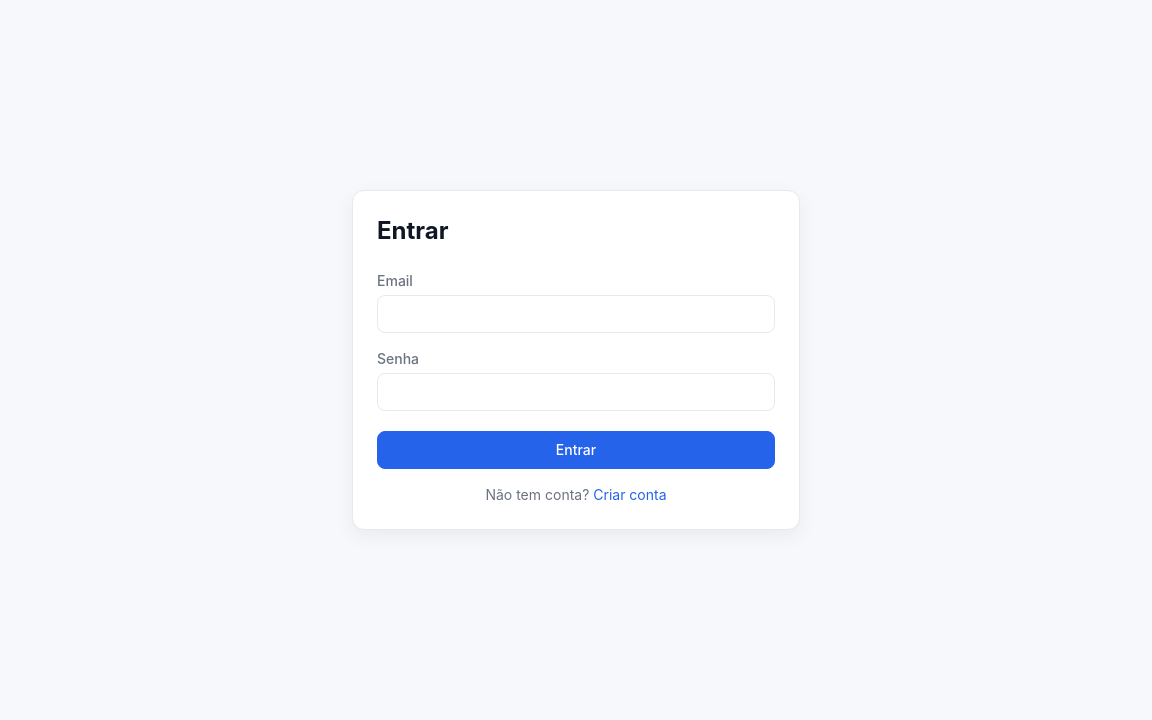
Auth Flow › navigates to dashboard on successful login
Type "test@example.com" into the field labelled "Email" at (576, 314), box [377,295,775,333]
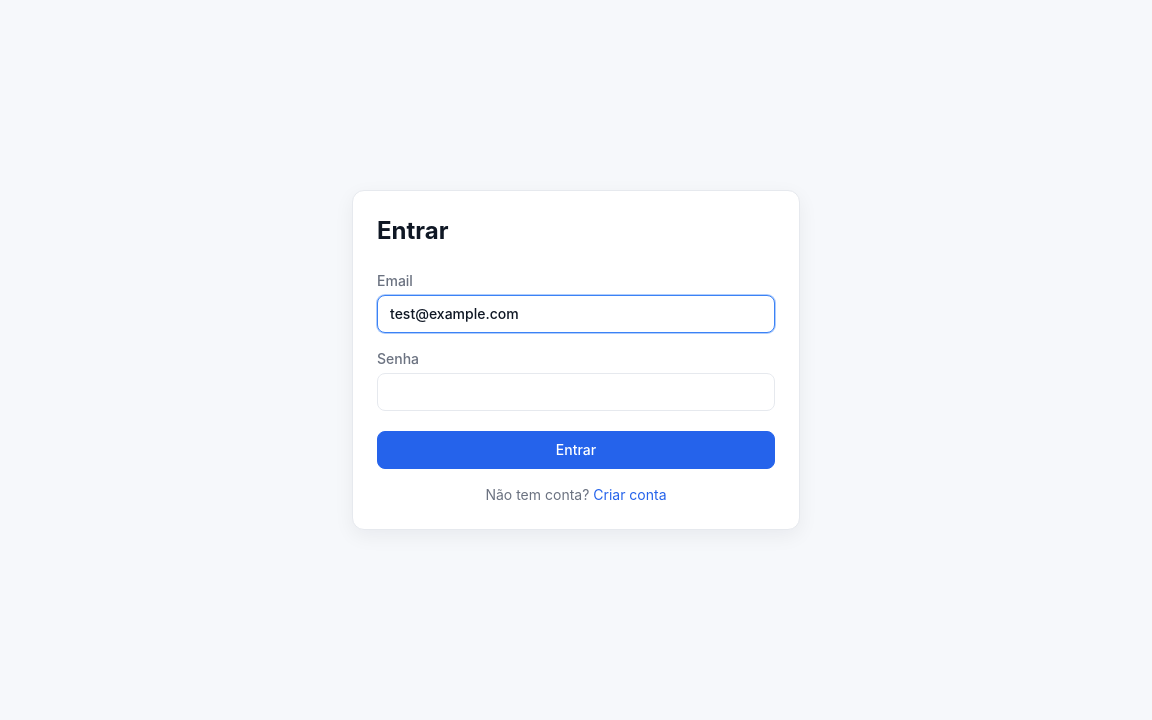
Type "senha123" into the password field labelled "Senha" at (576, 392), box [377,373,775,411]
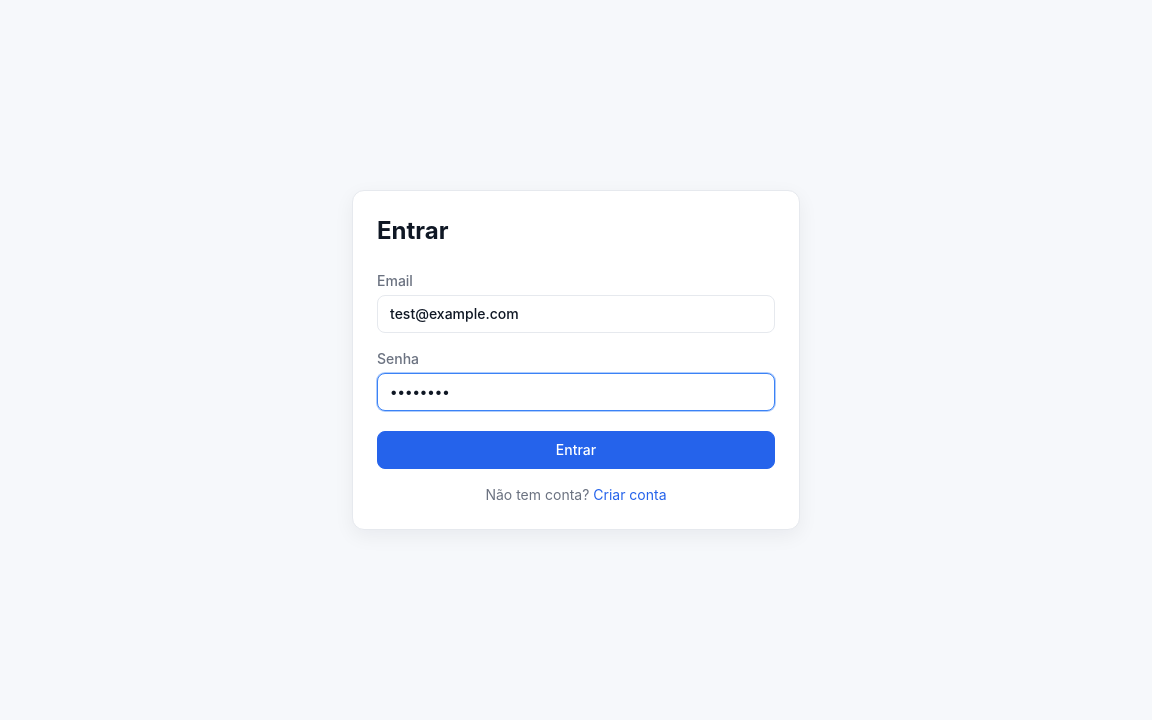
Click the button "Entrar" at (576, 450), box [377,431,775,469]
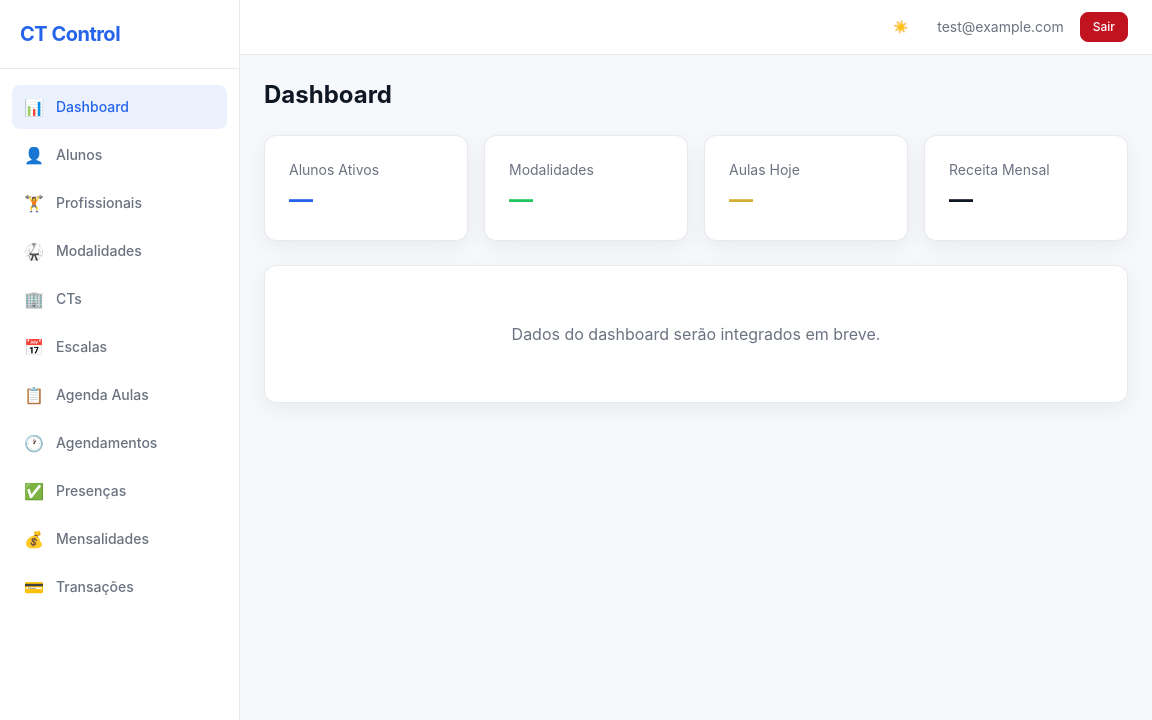
expect the button "Sair" is shown: met, box [1080,12,1128,42]
